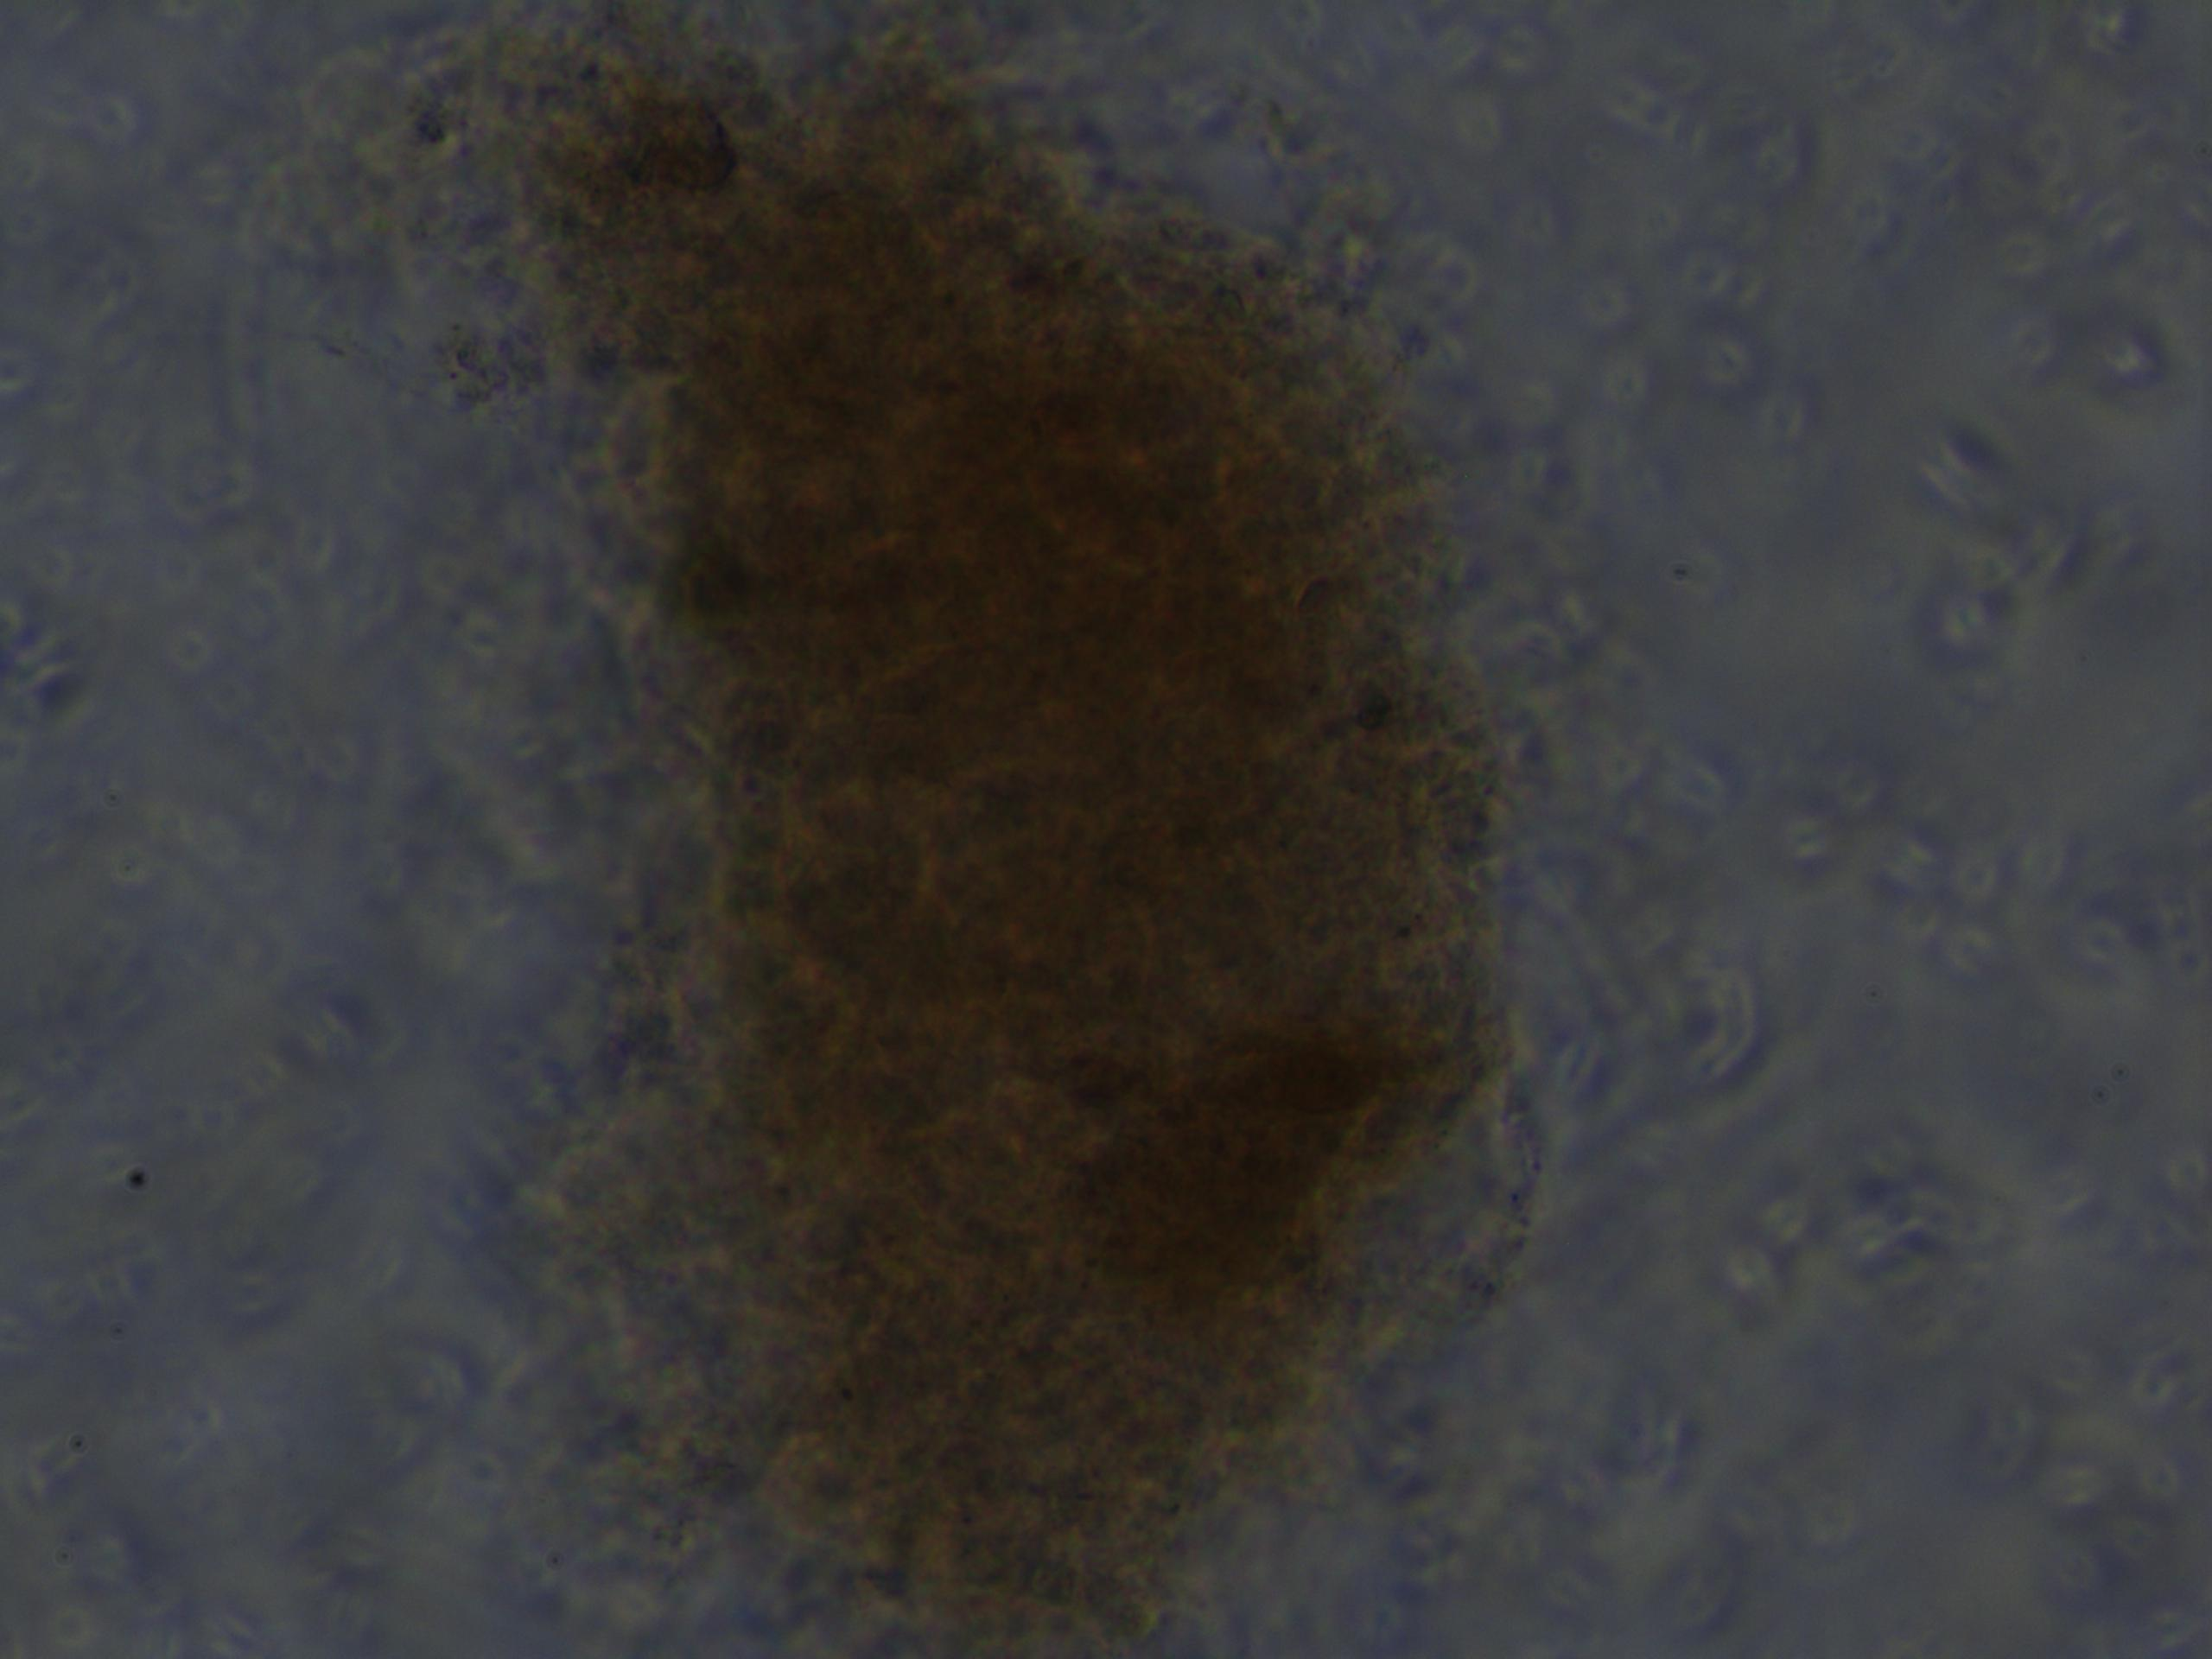spherical_floc: (486, 2, 1524, 1659)
